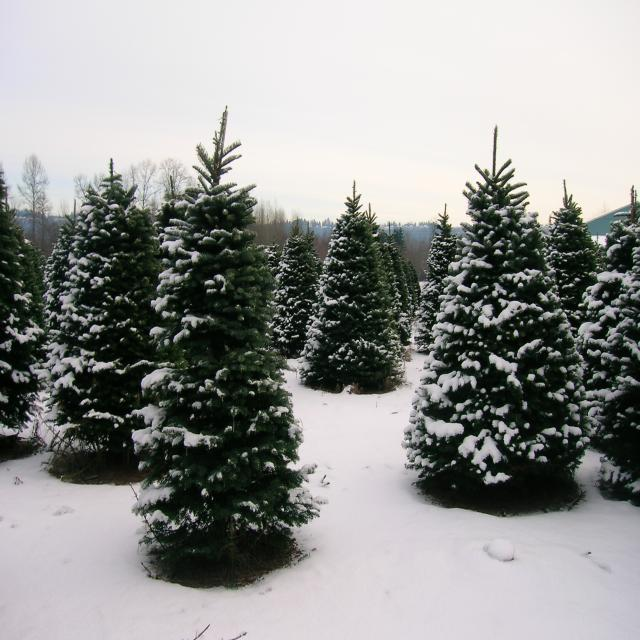Christmas-tree: (305, 178, 403, 406)
